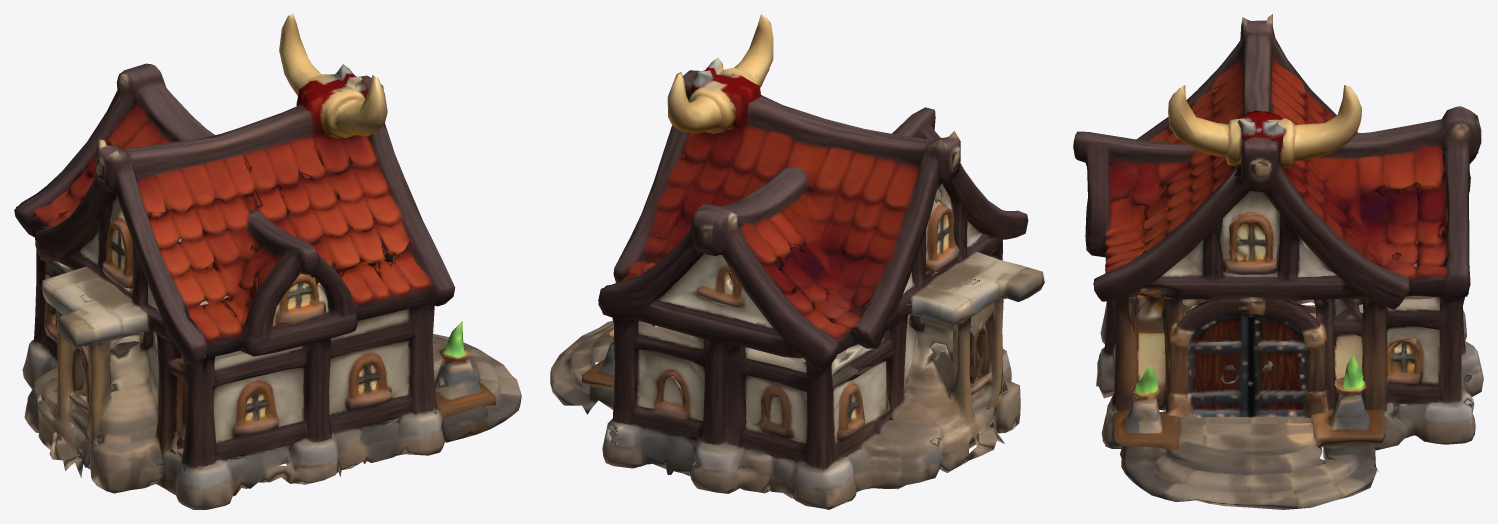
Rendered from beef_house.glb.
3 renders of one model, left to right at view 1: azimuth 30°, elevation 25°; view 2: azimuth 150°, elevation 25°; view 3: azimuth 270°, elevation 25°, orthographic. The views are drawn at different scales.
Visible parts, largest first — view 1: world; view 2: world; view 3: world.
Part boxes in pixels (<box>): world: <box>14,14,521,509</box>; world: <box>550,14,1044,509</box>; world: <box>1073,14,1483,509</box>.
Bounding box in the file's own units: 0.998 × 0.751 × 0.7947.
1 material, 1 textured.
